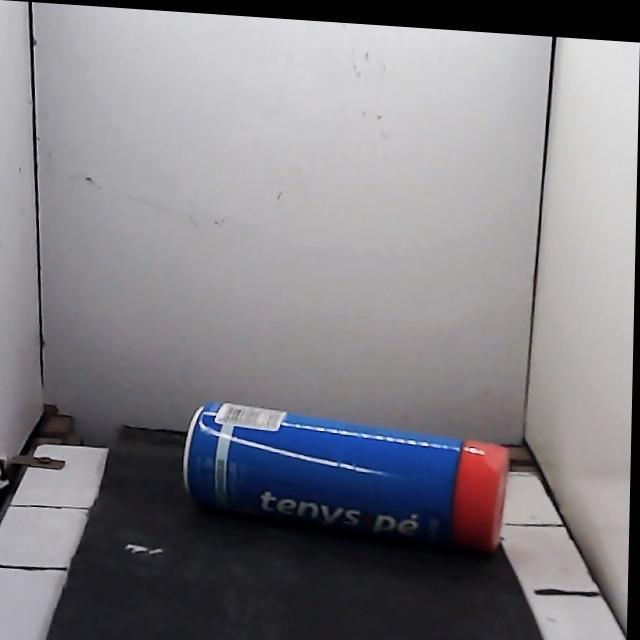plastico: (183, 402, 508, 551)
